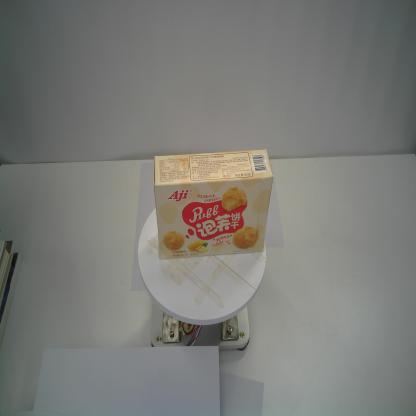Dessert: (152, 147, 274, 260)
